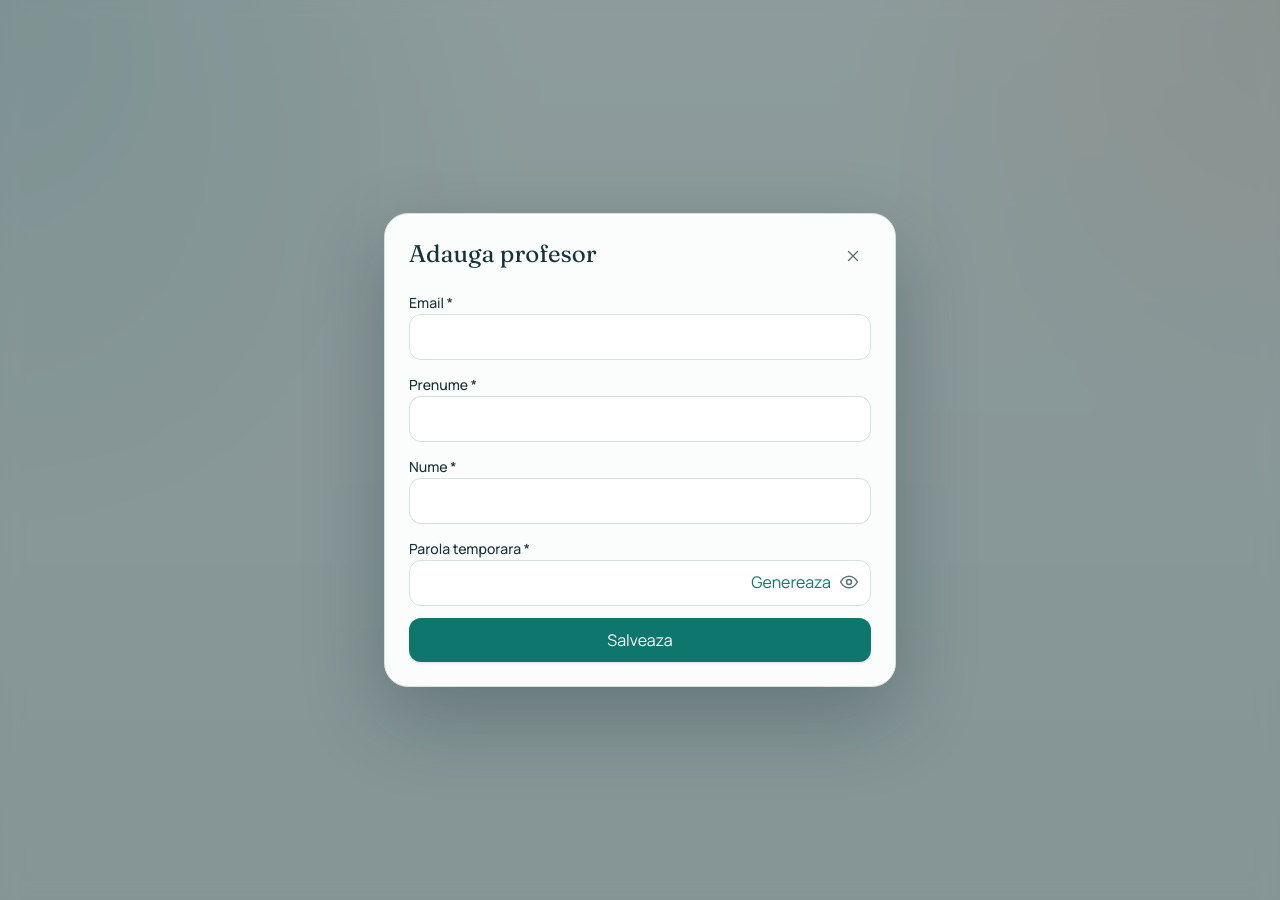
Scenario: TeacherFormModal › creates a teacher with a generated password
Type "prof@scoala.ro" into the field labelled "Email *" at [640, 337], box [409,314,871,360]
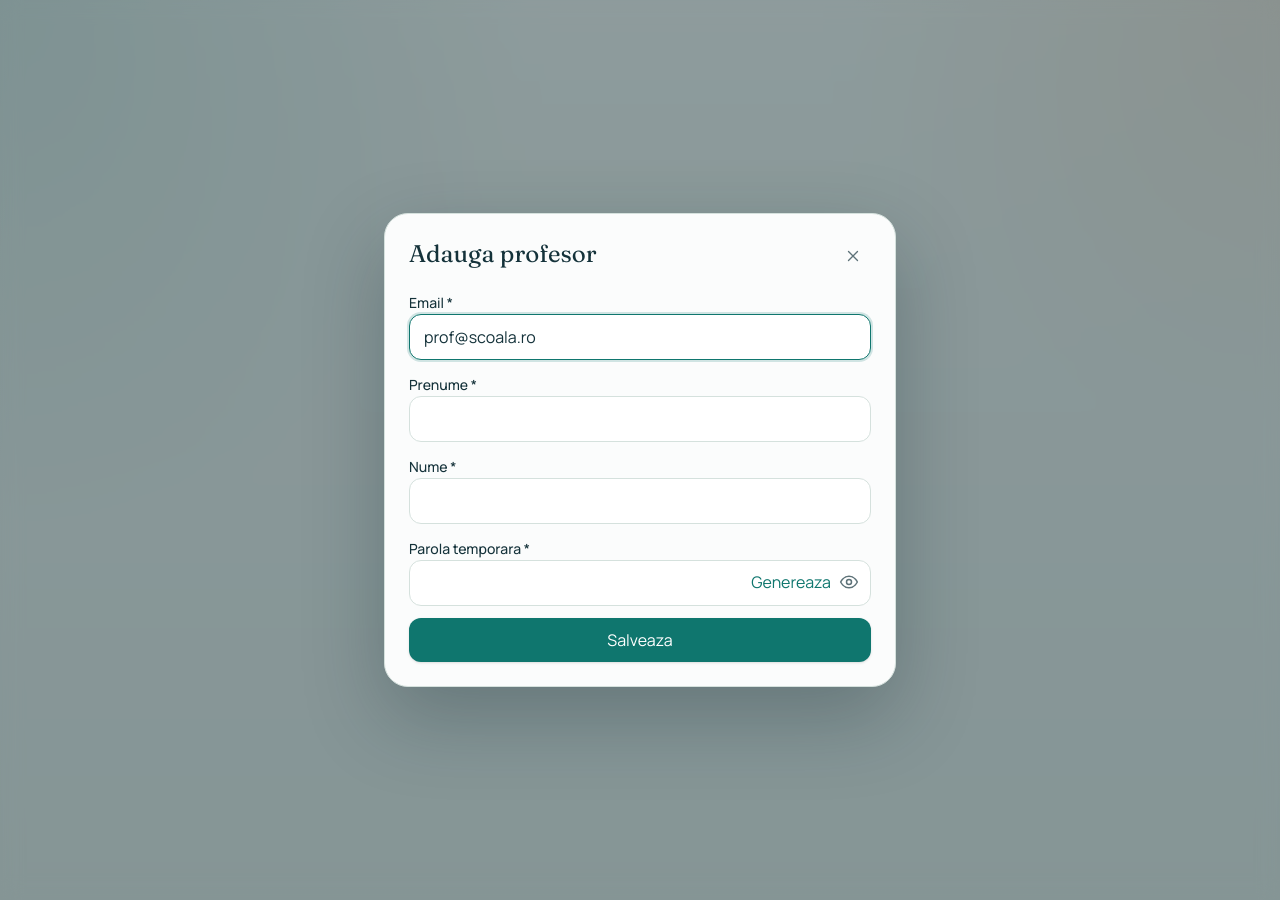
Type "Ion" into the field labelled "Prenume *" at [640, 419], box [409,396,871,442]
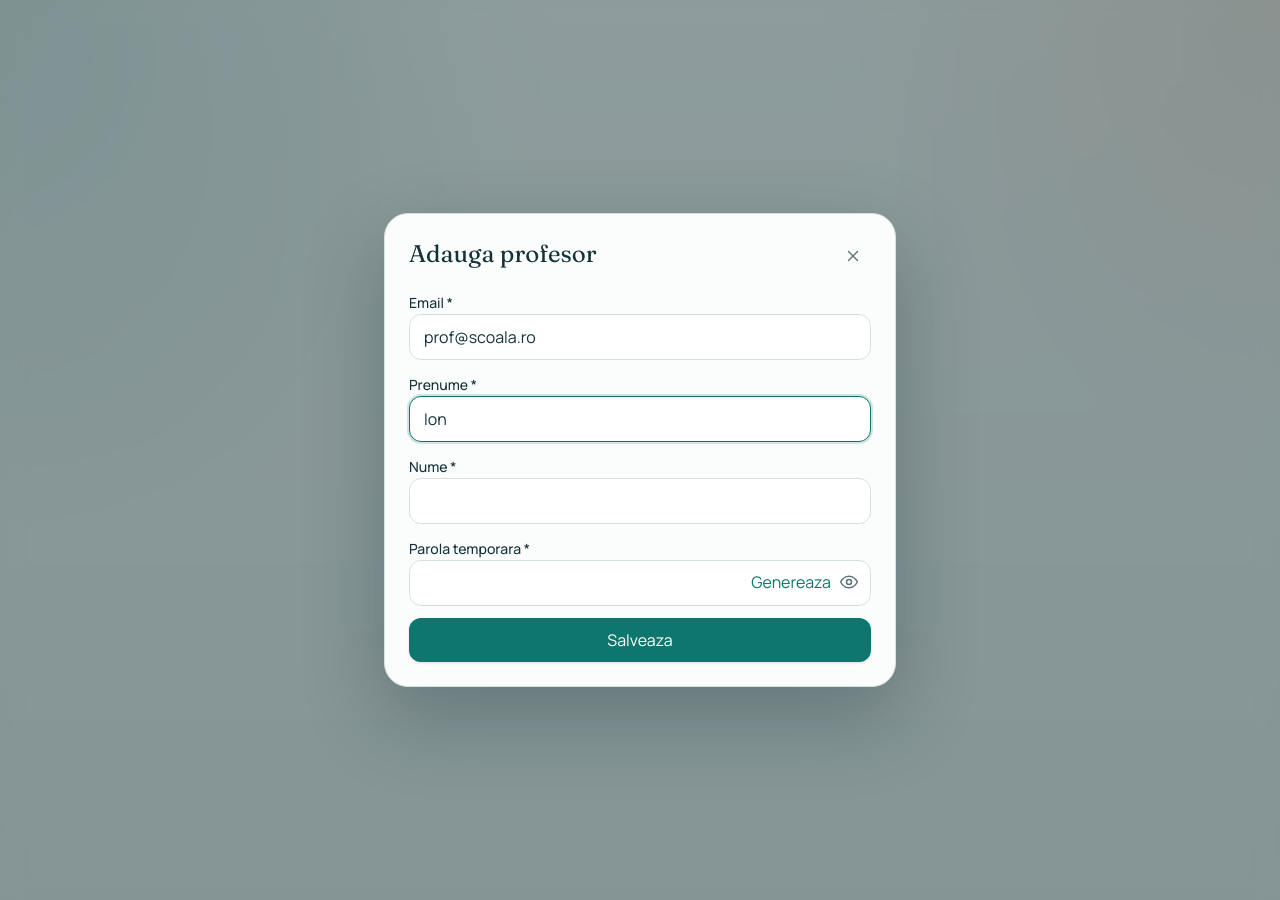
Type "Pop" into the field labelled "Nume *" at [640, 501], box [409,478,871,524]
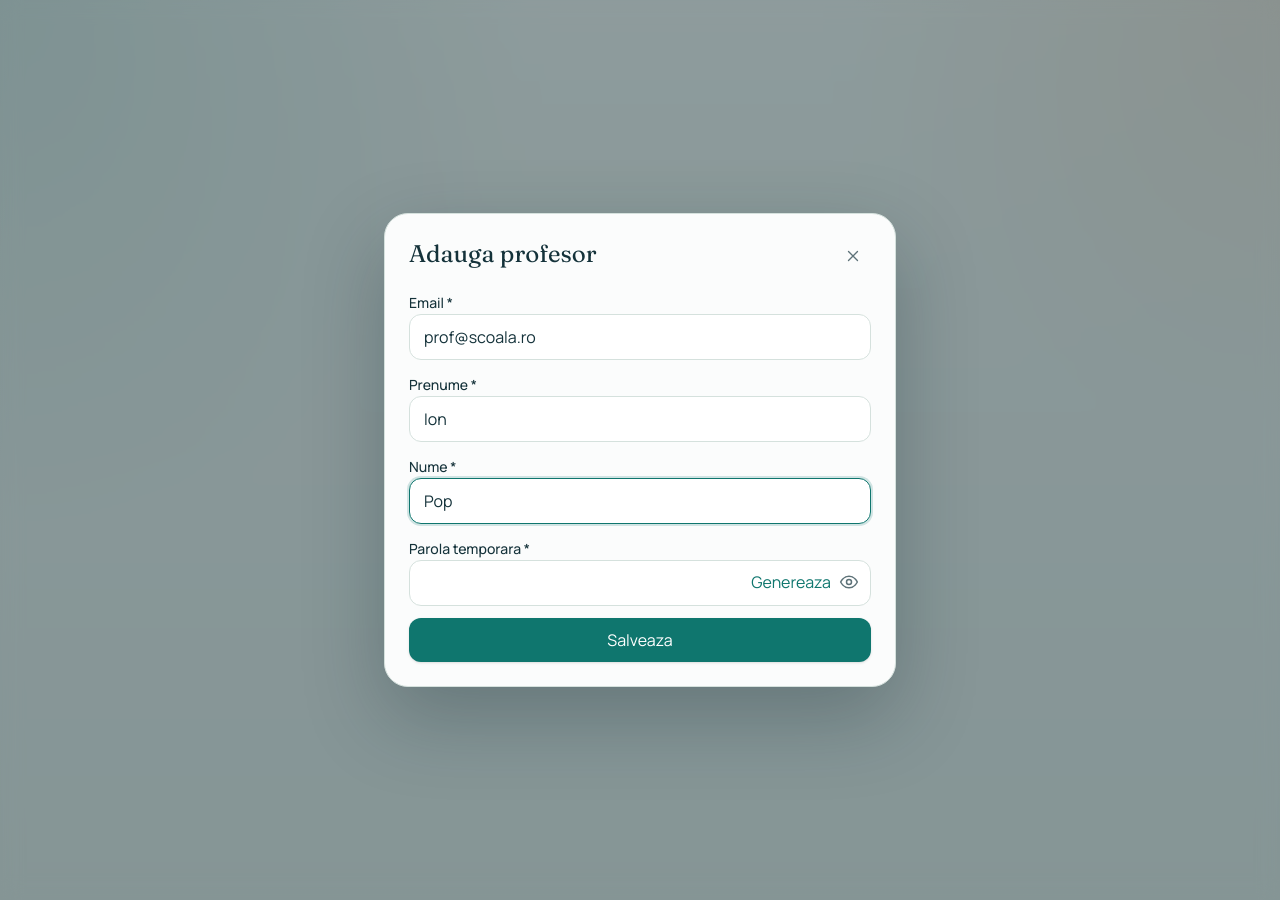
Click the button "Genereaza" at [791, 582], box [751,570,831,594]
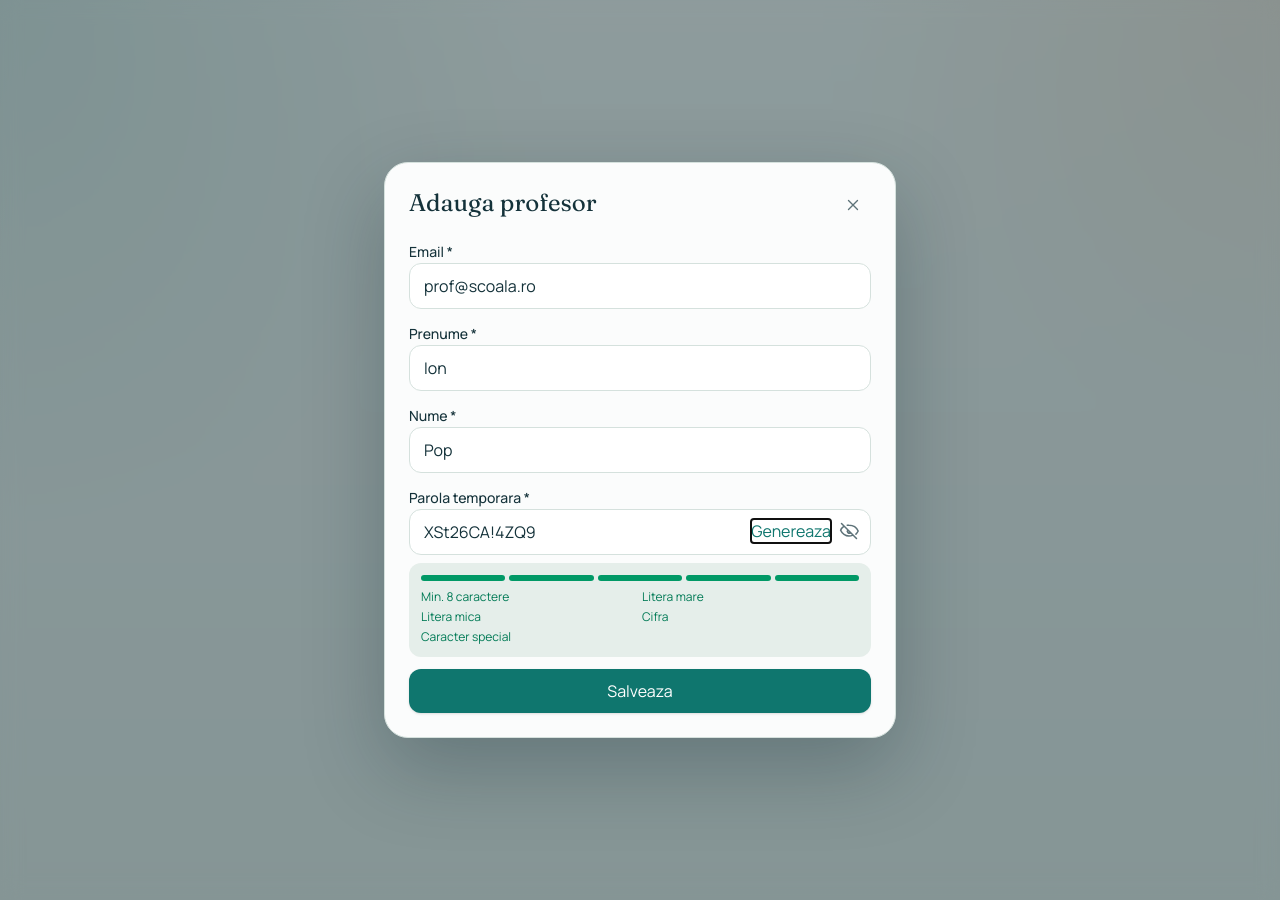
Click the button "Salveaza" at [640, 691], box [409,669,871,713]
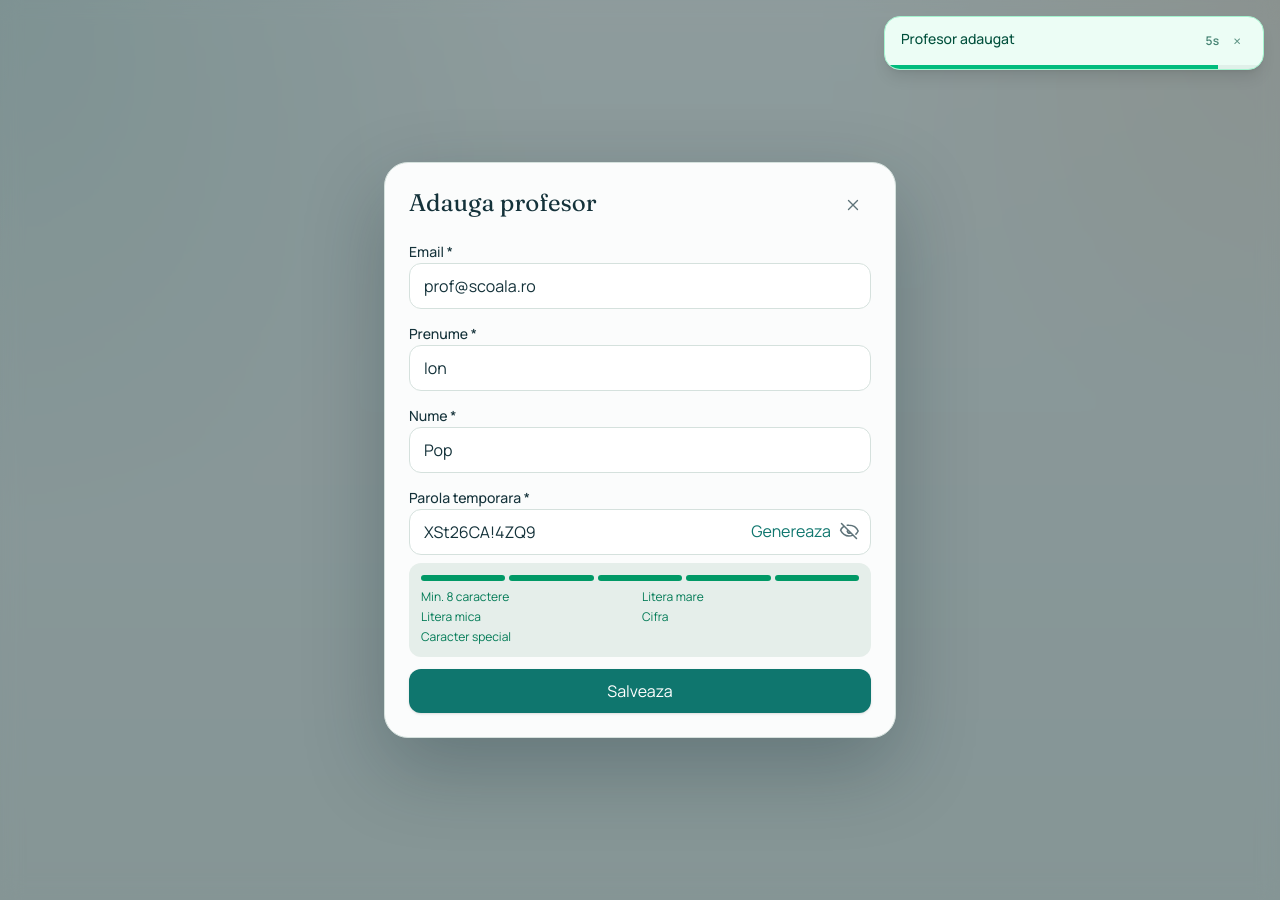
Check: the text "Profesor adaugat" is shown, box [901,29,1015,48]
